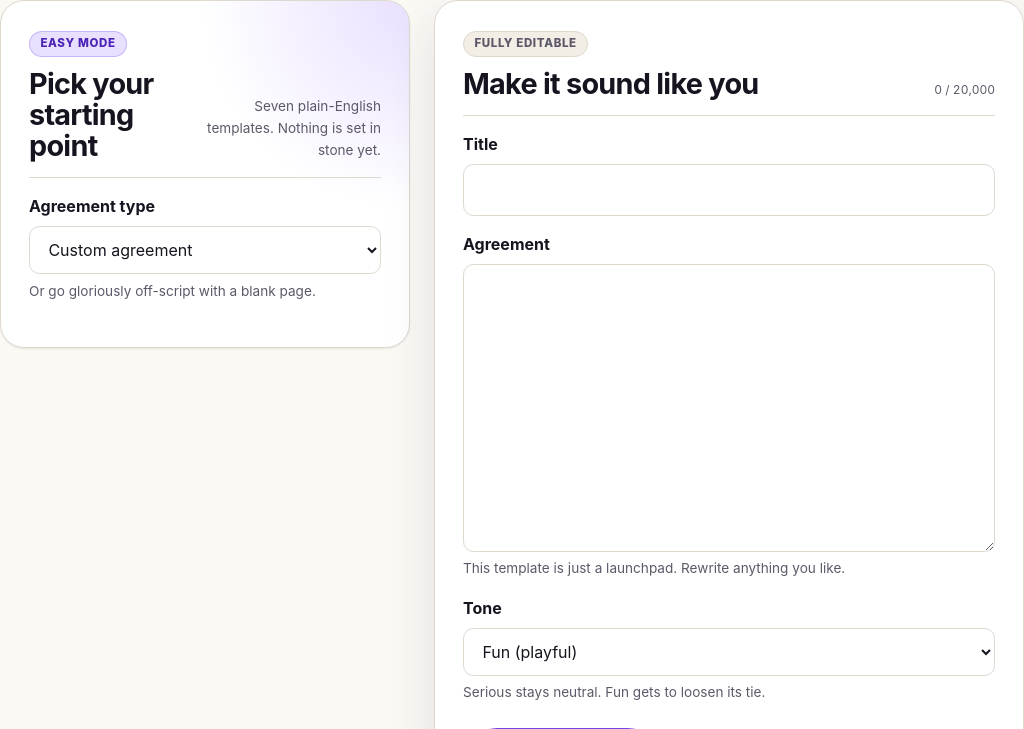
Test: ContractForm templates › offers all seven templates and fills the editable contract
Select "Borrowed item" in the dropdown labelled "Agreement type" at (205, 250), box [29,226,381,274]
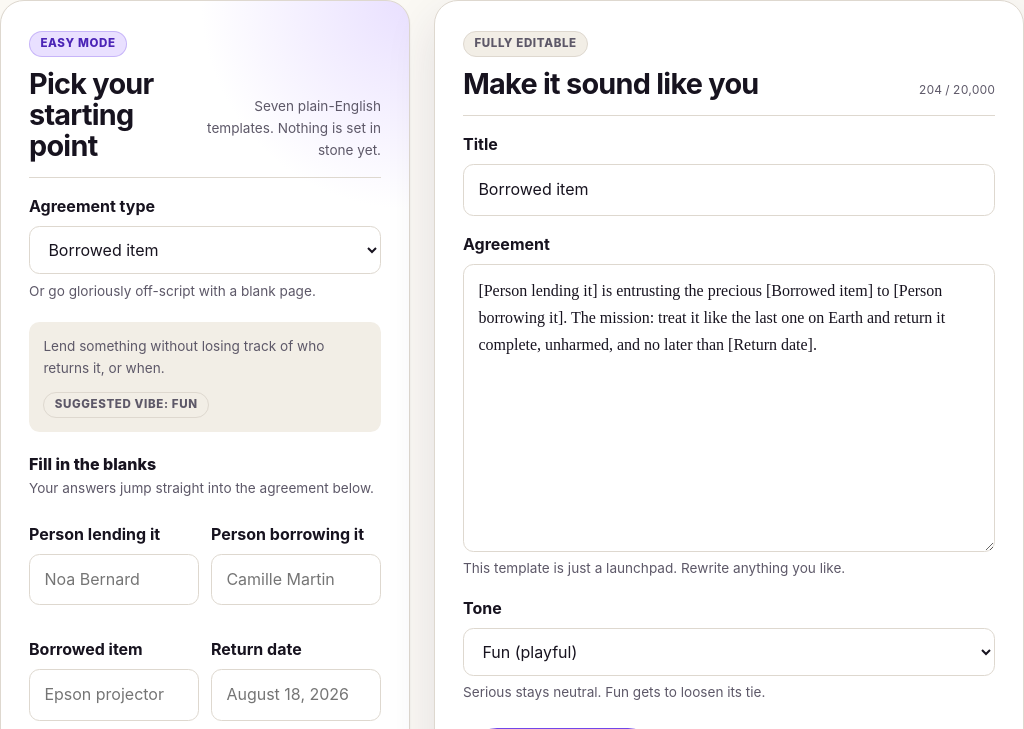
Check: the dropdown labelled "Tone" shows "Fun (playful)", box [463,628,995,676]
Check: the field labelled "Title" holds "Borrowed item", box [463,164,995,216]
Check: the text "Lend something without losing track" is shown, box [43,338,324,376]
